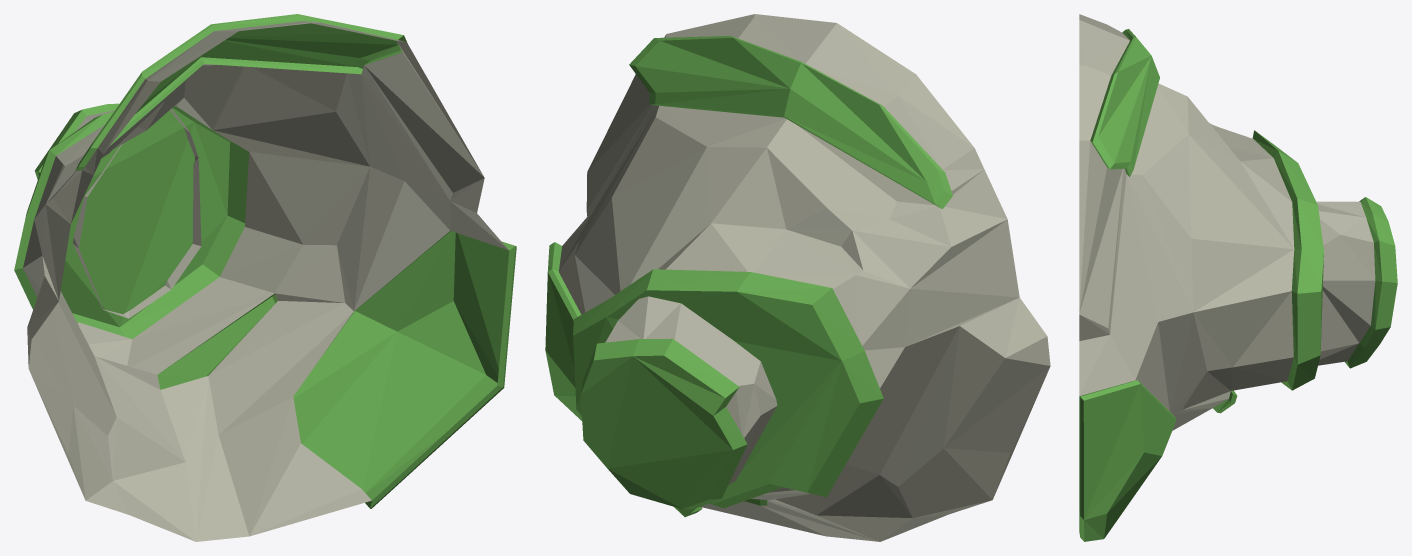
Rendered from Mountain Rock 02.FBX.
The picture shows the model from 3 angles, left to right: view 1: azimuth 30°, elevation 25°; view 2: azimuth 150°, elevation 25°; view 3: azimuth 270°, elevation 25°; orthographic projection. The views are drawn at different scales.
Parts seen in each view (by area): view 1: Mountain Rock 02; view 2: Mountain Rock 02; view 3: Mountain Rock 02.
Part boxes in pixels (x1=…): Mountain Rock 02: x1=14, y1=14, x2=516, y2=541; Mountain Rock 02: x1=545, y1=14, x2=1050, y2=541; Mountain Rock 02: x1=1079, y1=14, x2=1397, y2=541.
Size of the model in its own units: 1679 by 1677 by 1047.
